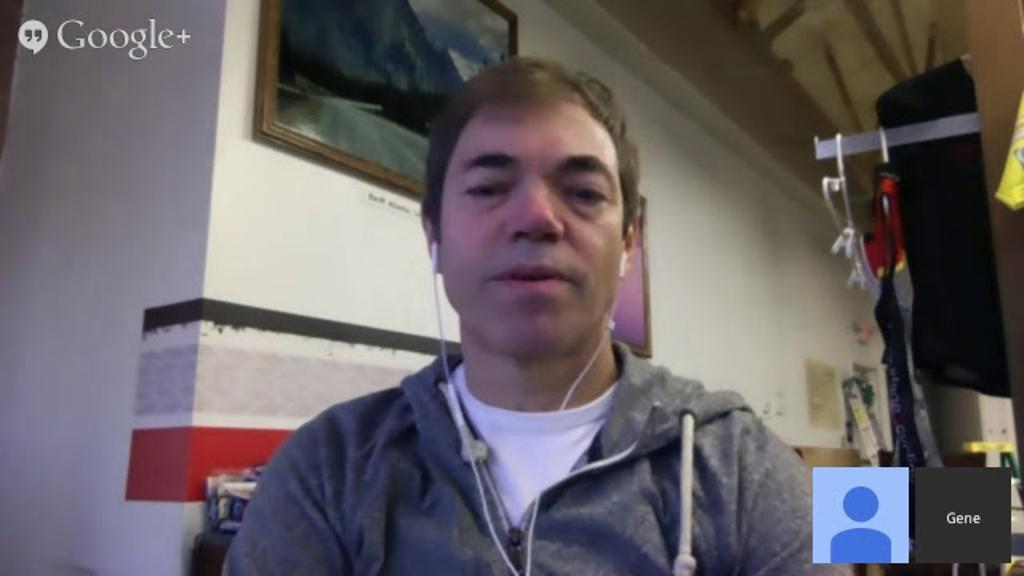face: (444, 106, 614, 336)
